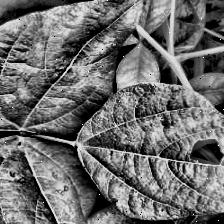ALS: (0, 0, 149, 130), (91, 83, 224, 224), (0, 141, 116, 224)
